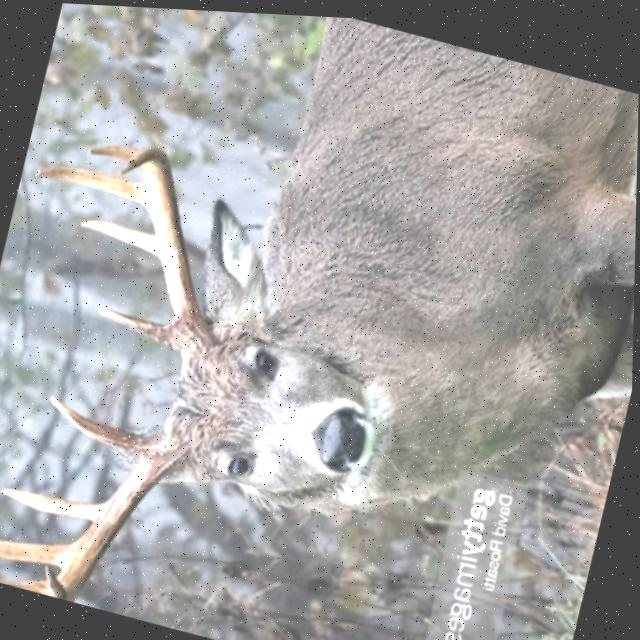L-F: (47, 432, 185, 601)
L-G1: (50, 396, 153, 454)
L-G2: (0, 486, 106, 519)
L-G3: (0, 538, 79, 568)
L-G4: (0, 578, 50, 594)
R-F: (120, 147, 211, 349)
R-G1: (96, 303, 171, 344)
R-G2: (78, 217, 159, 254)
R-G3: (34, 163, 143, 201)
